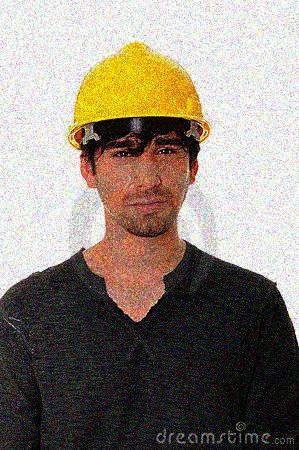helmet: (68, 39, 210, 238)
